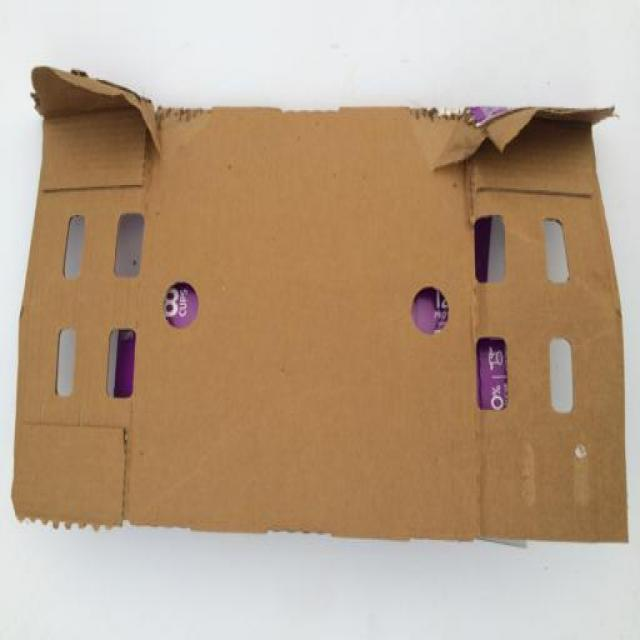cardboard: (13, 22, 634, 615)
